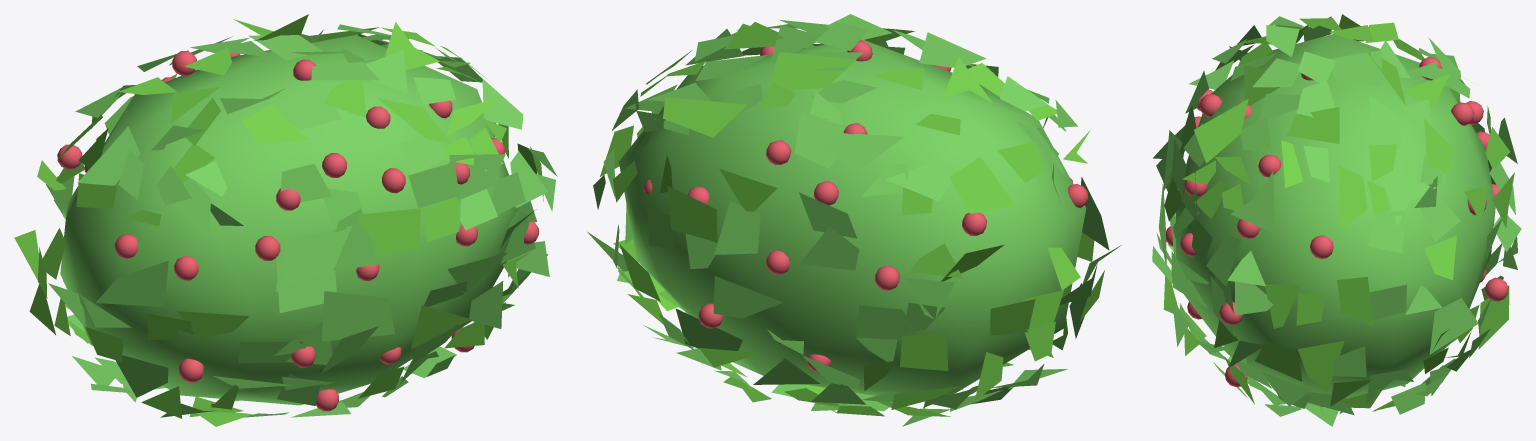
File: Bush1.fbx
The picture shows the model from 3 angles, left to right: view 1: azimuth 30°, elevation 25°; view 2: azimuth 150°, elevation 25°; view 3: azimuth 270°, elevation 25°; orthographic projection. The views are drawn at different scales.
Parts seen in each view (by area): view 1: Cube, Icosphere; view 2: Cube, Icosphere; view 3: Cube, Icosphere.
Part boxes in pixels (box(x1,y1,x2,y2)): Cube: box(14, 14, 557, 426); Icosphere: box(57, 51, 538, 411); Cube: box(587, 14, 1121, 426); Icosphere: box(644, 40, 1088, 371); Cube: box(1152, 14, 1521, 426); Icosphere: box(1166, 56, 1508, 387).
Bounding box in the file's own units: 265 × 192 × 190.
